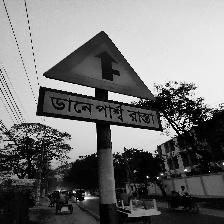Side-road-right: (38, 30, 162, 132)
